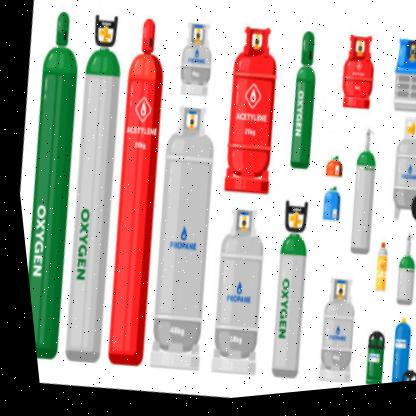gas-tank: (116, 101, 240, 383), (199, 19, 297, 209), (187, 206, 277, 386), (297, 274, 362, 394), (373, 117, 415, 241), (326, 33, 384, 121), (167, 24, 223, 106), (374, 37, 415, 129)
